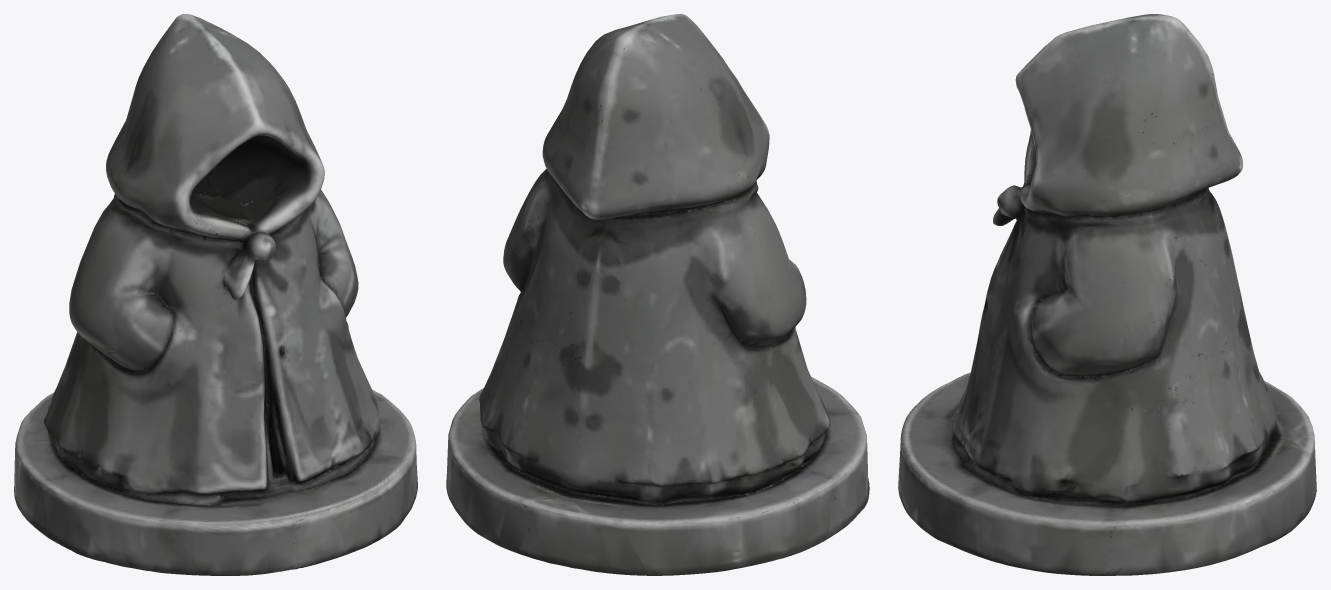
The model's file is thief.glb.
3 views of the same model, side by side, from view 1: azimuth 30°, elevation 25°; view 2: azimuth 150°, elevation 25°; view 3: azimuth 270°, elevation 25° (orthographic). The views are drawn at different scales.
Size of the model in its own units: 1.61 by 2 by 1.61.
1 material, 1 textured.
